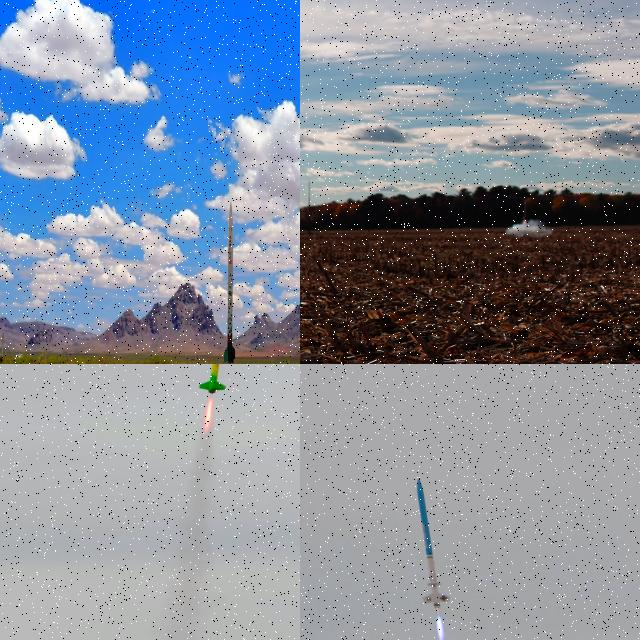Rocket: (414, 478, 452, 610), (224, 201, 235, 364), (198, 364, 227, 394), (522, 199, 529, 220)
